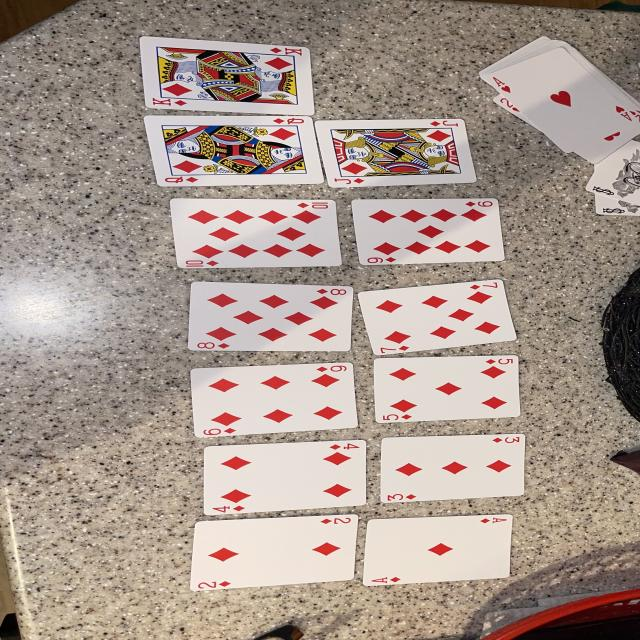10 of diamonds: (171, 199, 342, 269)
2 of diamonds: (191, 514, 358, 591)
3 of diamonds: (380, 434, 524, 502)
4 of diamonds: (204, 440, 367, 515)
5 of diamonds: (373, 355, 520, 422)
6 of diamonds: (191, 362, 358, 438)
7 of diamonds: (358, 279, 516, 355)
8 of diamonds: (189, 281, 353, 351)
9 of diamonds: (351, 199, 504, 265)
Ace of diamonds: (362, 514, 513, 586)
Ace of hearts: (483, 49, 638, 153)
Jack of diamonds: (316, 119, 476, 188)
King of diamonds: (140, 36, 313, 115)
Queen of diamonds: (144, 115, 324, 186)
